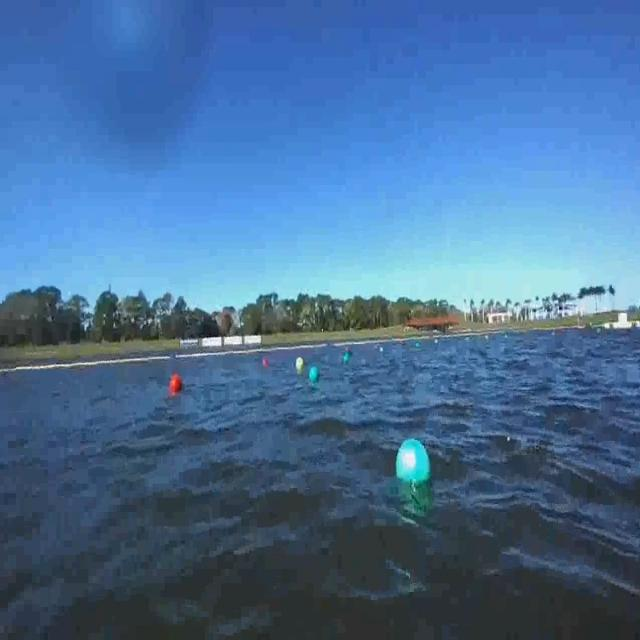green-buoy: (394, 437, 433, 488), (308, 365, 316, 381)
red-buoy: (170, 376, 185, 398), (265, 357, 271, 369)
yellow-buoy: (295, 357, 303, 370)
